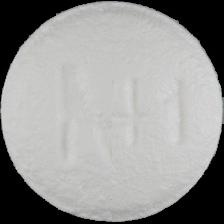0378-0441: (0, 0, 224, 224)
